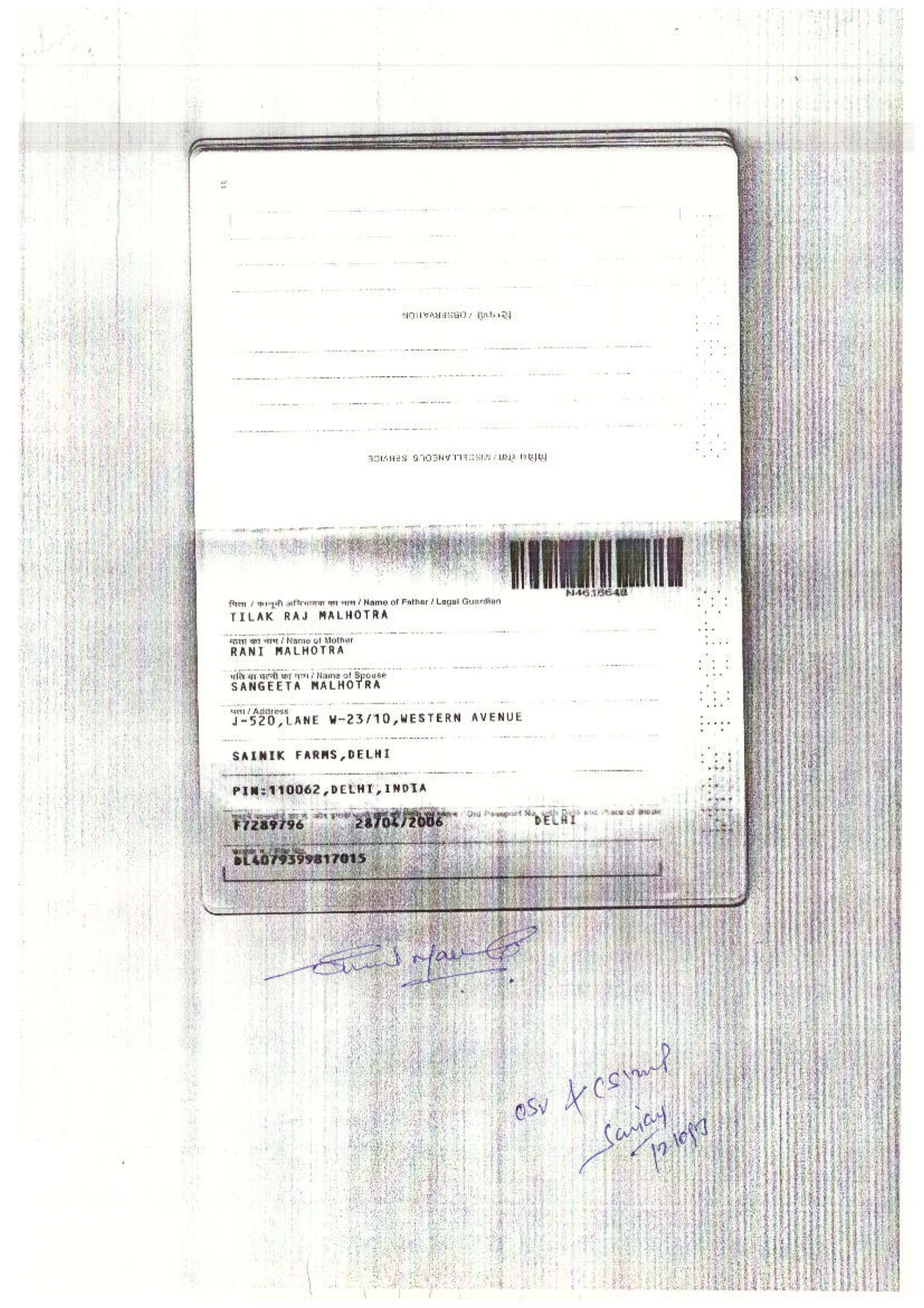File_no: (230, 847, 376, 878)
address: (218, 697, 538, 810)
father_name: (221, 603, 390, 629)
mother_name: (225, 641, 355, 664)
old_passport_details: (226, 809, 580, 835)
passport_no: (562, 582, 631, 609)
spouse_name: (229, 675, 389, 695)
